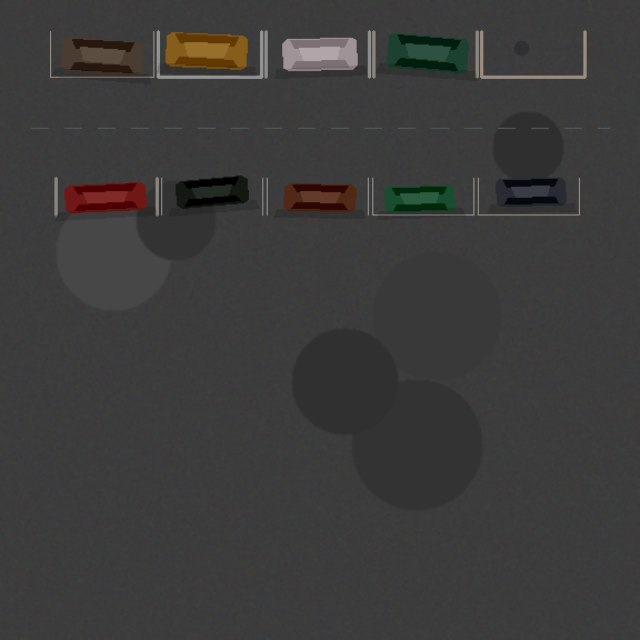space-empty: (481, 31, 584, 77)
space-occupied: (373, 31, 477, 77), (50, 31, 153, 77), (158, 31, 261, 77), (266, 31, 369, 77), (56, 178, 157, 214), (161, 178, 262, 214), (267, 178, 368, 214), (372, 178, 473, 214), (478, 178, 579, 214)
